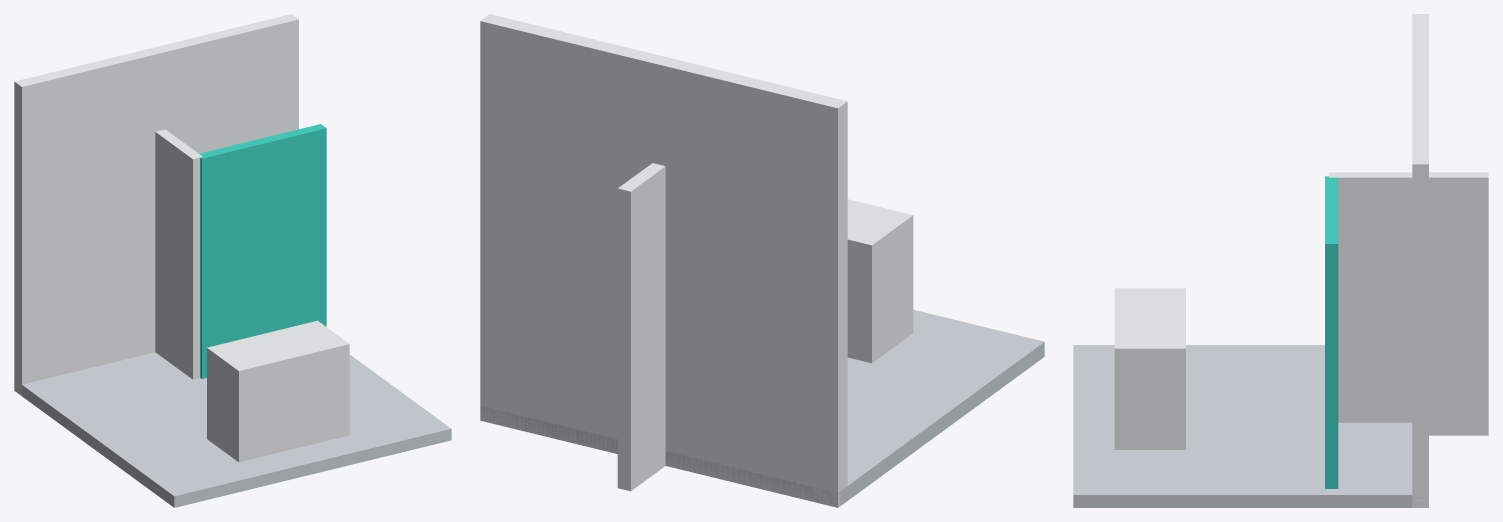
3 renders of one model, left to right at view 1: azimuth 30°, elevation 25°; view 2: azimuth 150°, elevation 25°; view 3: azimuth 270°, elevation 25°, orthographic. The views are drawn at different scales.
Parts seen in each view (by area): view 1: Exhibition Booth Concept; view 2: Exhibition Booth Concept; view 3: Exhibition Booth Concept.
Boxes of the visible parts, <box> form: Exhibition Booth Concept: <box>14,14,451,507</box>; Exhibition Booth Concept: <box>480,14,1044,507</box>; Exhibition Booth Concept: <box>1073,14,1488,507</box>.
Bounding box in the file's own units: 3 × 3.2 × 3.51.
